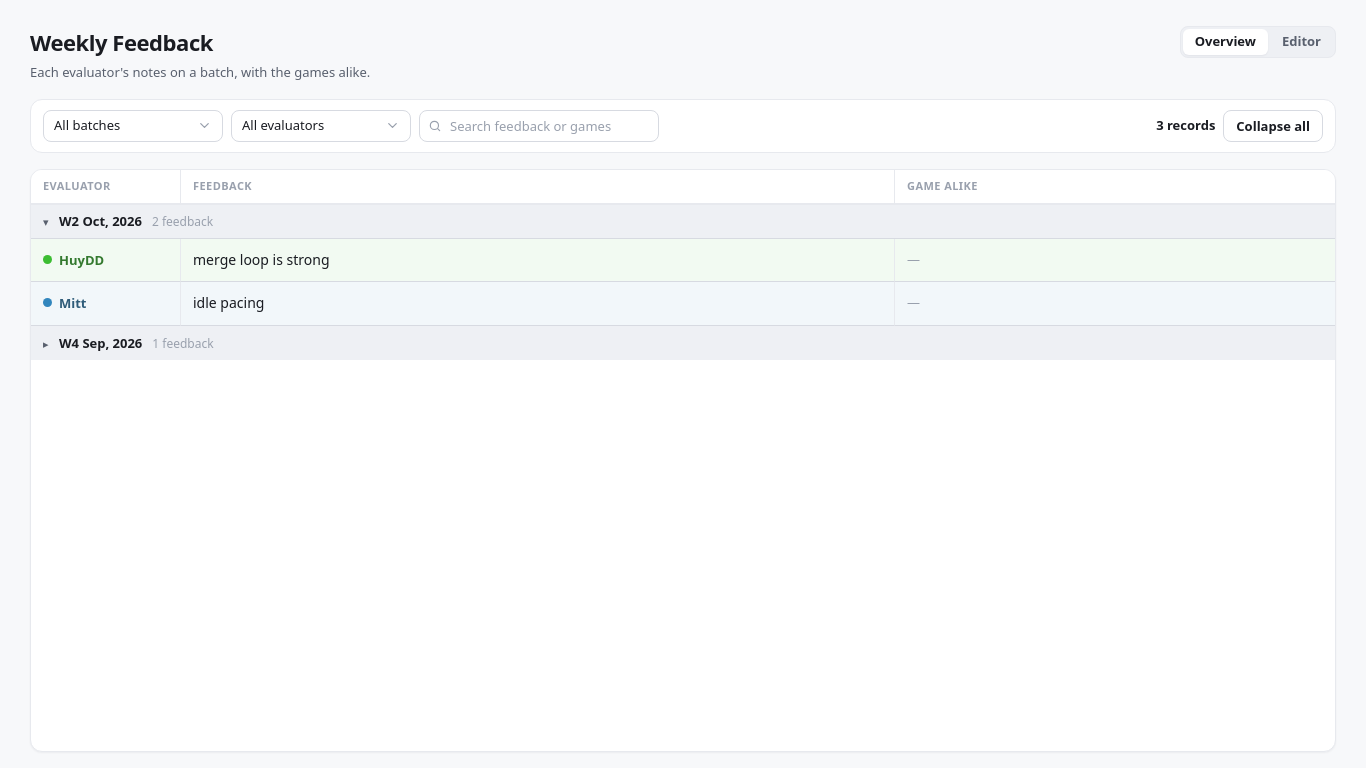
Test: Weekly Feedback › picks a whole month: keeps it in the URL and shows only that month's batches
The width and height of the screenshot is (1366, 768).
Expected: the text "3 records" is shown, [1156, 116, 1215, 135]
Click the button with aria-label "Batch: All batches". click: [133, 126]
box: [43, 110, 223, 142]
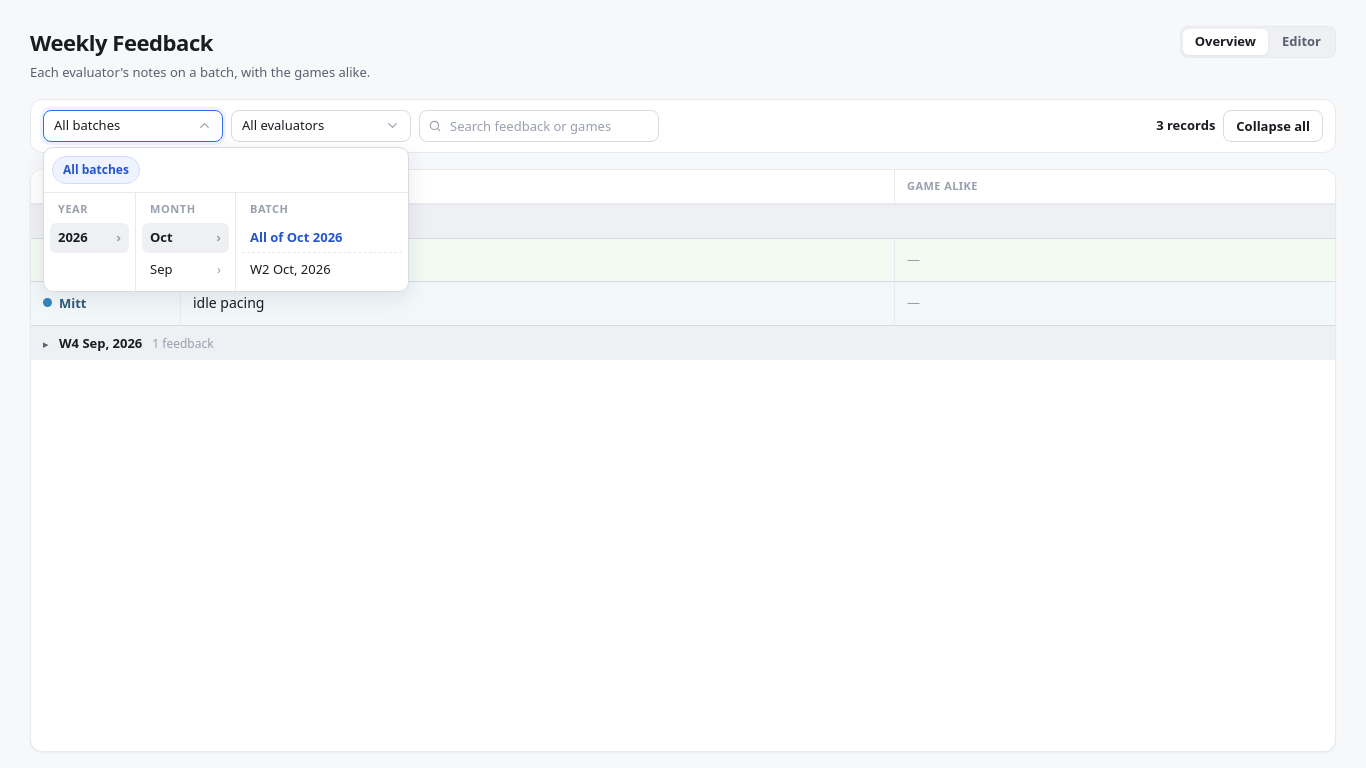
Click the button "All of Oct 2026". click: [322, 238]
box: [242, 223, 402, 253]
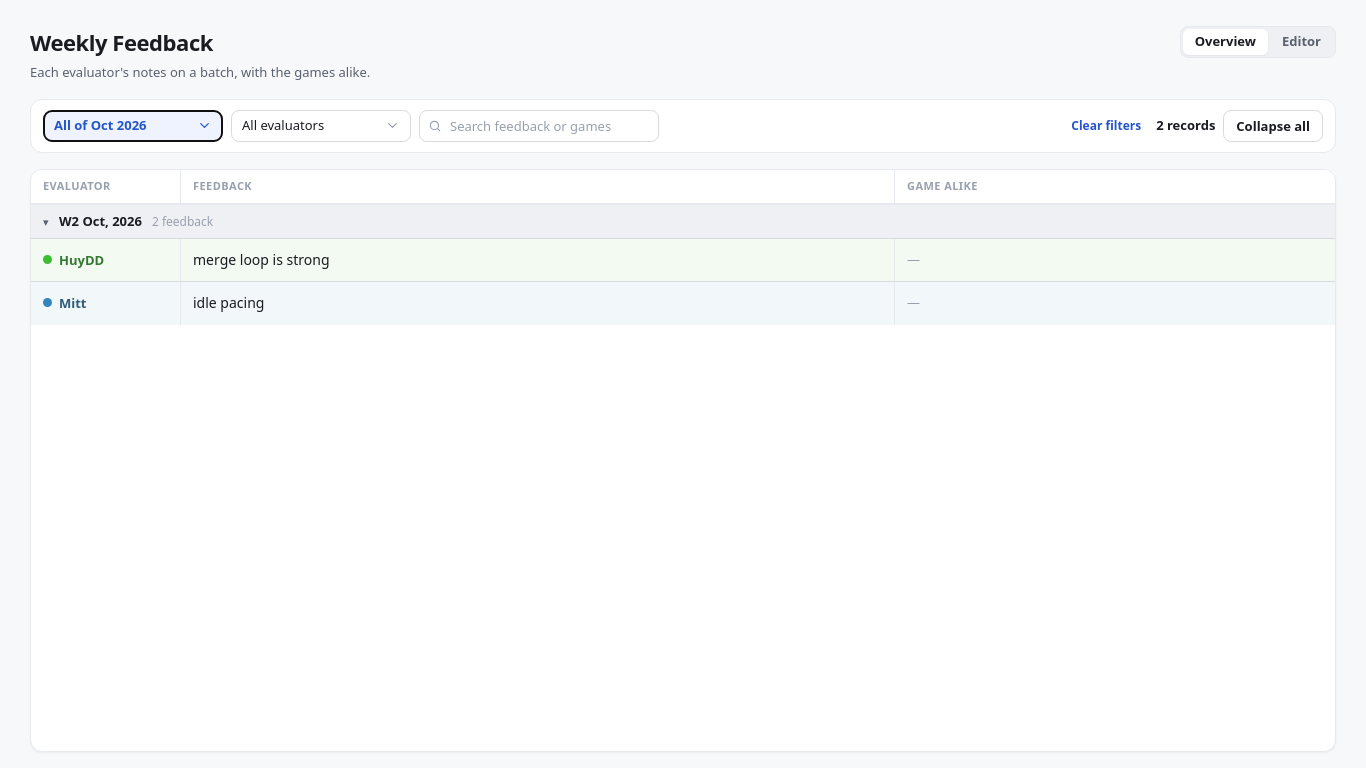
Result: the text "2 records" is shown at [1156, 116, 1215, 135]
Result: the text "W4 Sep, 2026" is gone
Result: the button with aria-label "Batch: All of Oct 2026" is shown at [43, 110, 223, 142]
